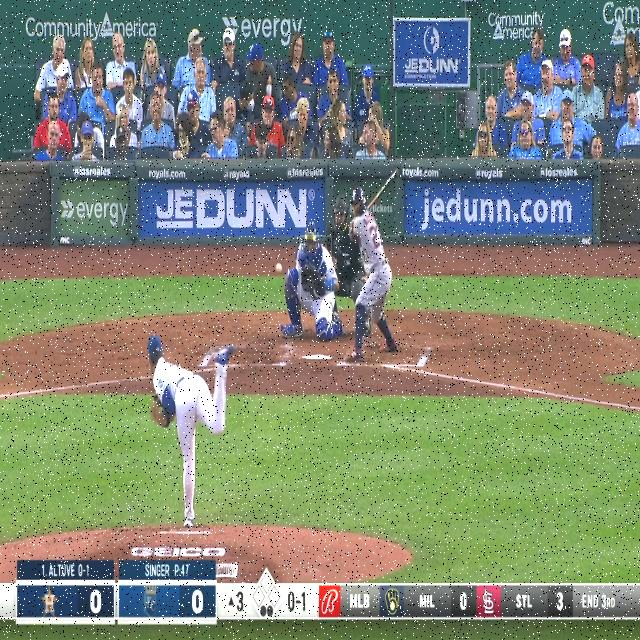baseball: (275, 262, 283, 274)
